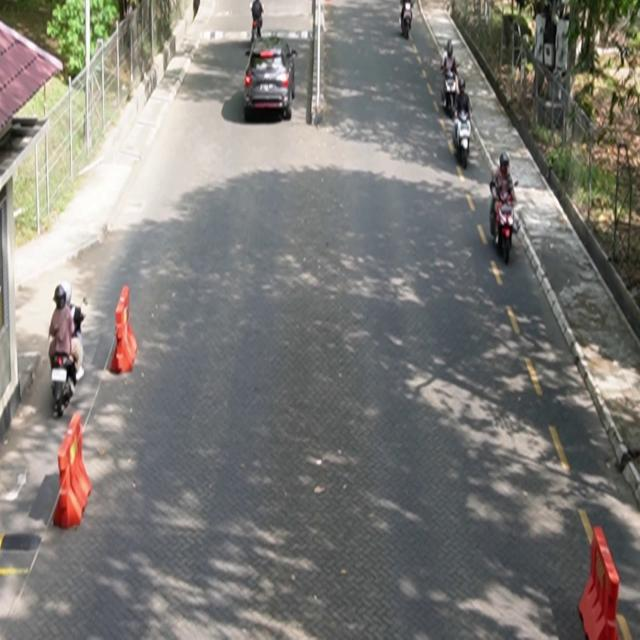car: (245, 35, 299, 121)
